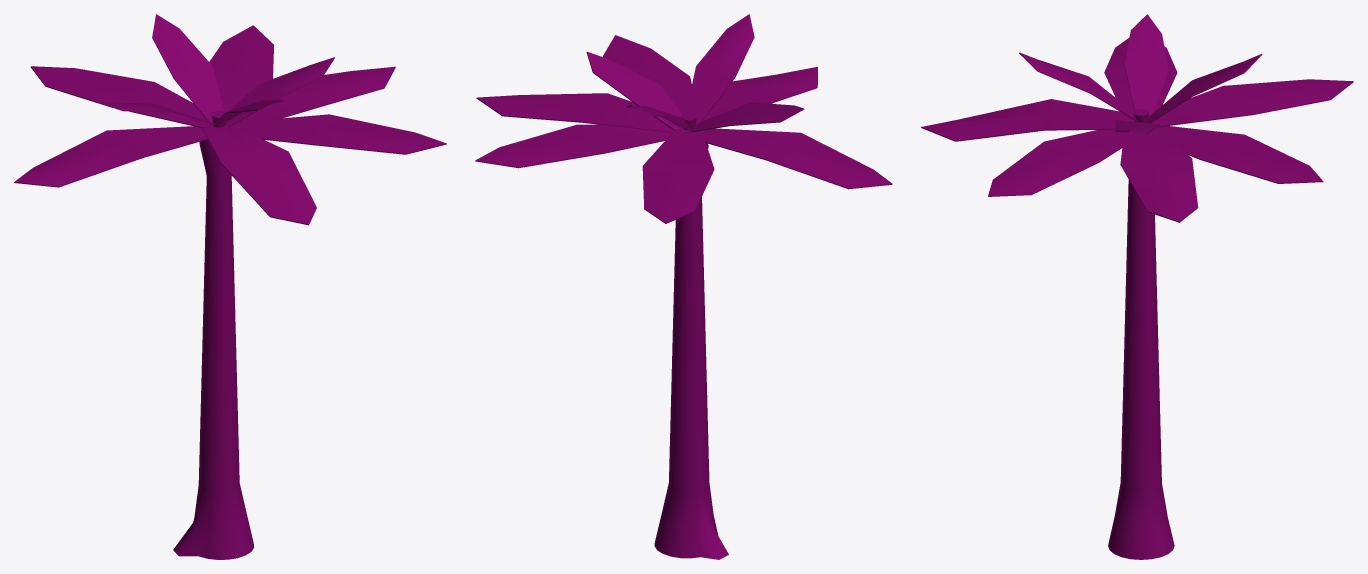
The model's file is Tree.fbx.
3 views of the same model, side by side, from view 1: azimuth 30°, elevation 25°; view 2: azimuth 150°, elevation 25°; view 3: azimuth 270°, elevation 25° (orthographic).
Visible parts, largest first — view 1: pCylinder19; view 2: pCylinder19; view 3: pCylinder19.
Part boxes in pixels (x1,y1,x2,y2): pCylinder19: (14, 14, 446, 559); pCylinder19: (475, 14, 892, 559); pCylinder19: (921, 14, 1353, 559).
Bounding box in the file's own units: 28.47 × 33.35 × 26.56.
